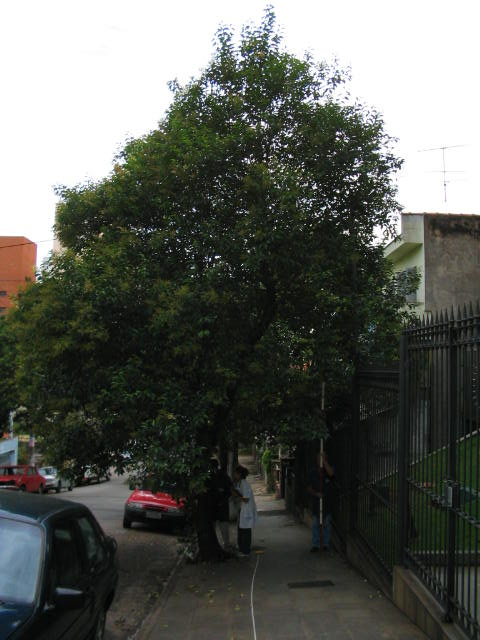crown: (8, 7, 422, 497)
stem: (185, 501, 229, 560)
stick: (312, 379, 329, 553)
tree: (5, 6, 422, 562)
